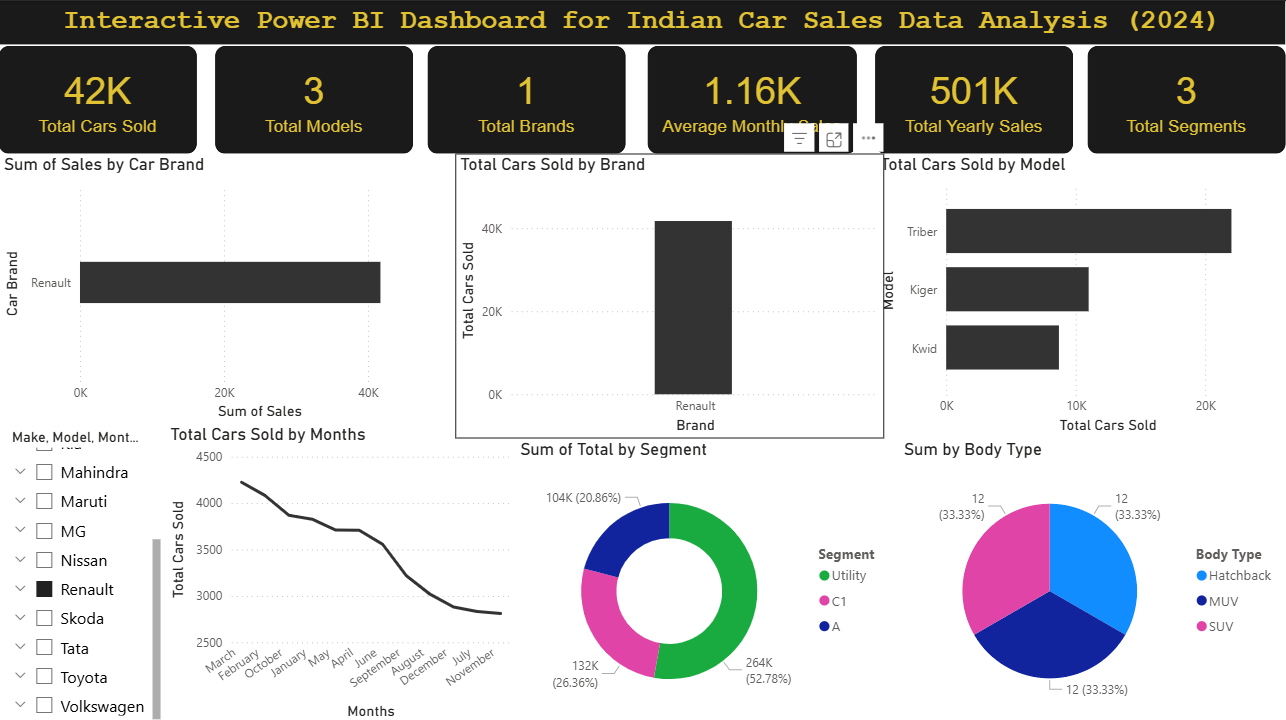

Layout of this report page (visuals, bound fields, positions):
{"tool":"powerbi","page":{"name":"Page 1","canvas":[1280,720],"ordinal":0},"visuals":[{"type":"card","fields":{"Values":["Sheet1.Total Cars Sold"]},"box":[0,44.8,196.5,107],"z":0},{"type":"card","fields":{"Values":["Sheet1.Total Models"]},"box":[215.2,44.8,196.5,107],"z":1},{"type":"card","fields":{"Values":["Sheet1.Total Brands"]},"box":[426.7,44.8,196.5,107],"z":2},{"type":"card","fields":{"Values":["Car Sales.Average Monthly Sales"]},"box":[645.6,44.8,207.7,107],"z":3},{"type":"card","fields":{"Values":["Car Sales.Total Yearly Sales"]},"box":[872,44.8,196.5,107],"z":4},{"type":"card","fields":{"Values":["Car Sales.Total Segments"]},"box":[1083.4,44.8,196.5,107],"z":5},{"type":"clusteredBarChart","fields":{"Category":["Car Sales.Make"],"Y":["Sum(Car Sales.Sales)"]},"box":[0,151.8,454,269.9],"z":6},{"type":"pieChart","fields":{"Category":["Car Sales.Body Type"],"Y":["CountNonNull(Car Sales.Total)"]},"box":[895.7,435.4,384.4,284.9],"z":7},{"type":"donutChart","fields":{"Category":["Car Sales.Segment"],"Y":["Sum(Car Sales.Total)"]},"box":[513.8,435.4,381.9,284.9],"z":8},{"type":"barChart","fields":{"Category":["Car Sales.Model"],"Y":["Car Sales.Total Cars Sold"]},"box":[872,151.8,408,283.6],"z":10},{"type":"slicer","fields":{"Values":["Car Sales.Make","Car Sales.Model","Car Sales.Months","Car Sales.Body Type","Car Sales.Segment"]},"box":[0,420.5,165.4,299.8],"z":11},{"type":"lineChart","fields":{"Y":["Car Sales.Total Cars Sold"],"Category":["Car Sales.Months"]},"box":[165.4,420.5,348.3,299.8],"z":12},{"type":"lineClusteredColumnComboChart","fields":{"Y":["Car Sales.Total Cars Sold"],"Category":["Car Sales.Make"]},"box":[454,151.8,426.7,283.6],"z":13},{"type":"textbox","box":[0,0,1280,43.5],"z":14}]}

Visuals, with their boxes in screenshot pixels (x1, y1, x2, y2):
card - Sheet1.Total Cars Sold: pyautogui.locateOnScreen(0, 42, 188, 152)
card - Sheet1.Total Models: pyautogui.locateOnScreen(207, 42, 408, 152)
card - Sheet1.Total Brands: pyautogui.locateOnScreen(423, 42, 624, 152)
card - Car Sales.Average Monthly Sales: pyautogui.locateOnScreen(647, 42, 859, 152)
card - Car Sales.Total Yearly Sales: pyautogui.locateOnScreen(878, 42, 1079, 152)
card - Car Sales.Total Segments: pyautogui.locateOnScreen(1094, 42, 1285, 152)
clusteredBarChart - Car Sales.Make x Sum(Car Sales.Sales): pyautogui.locateOnScreen(0, 152, 451, 428)
pieChart - Car Sales.Body Type x CountNonNull(Car Sales.Total): pyautogui.locateOnScreen(902, 442, 1285, 719)
donutChart - Car Sales.Segment x Sum(Car Sales.Total): pyautogui.locateOnScreen(512, 442, 902, 719)
barChart - Car Sales.Model x Car Sales.Total Cars Sold: pyautogui.locateOnScreen(878, 152, 1285, 442)
slicer - Car Sales.Make x Car Sales.Model: pyautogui.locateOnScreen(0, 427, 156, 719)
lineChart - Car Sales.Total Cars Sold x Car Sales.Months: pyautogui.locateOnScreen(156, 427, 512, 719)
lineClusteredColumnComboChart - Car Sales.Total Cars Sold x Car Sales.Make: pyautogui.locateOnScreen(451, 152, 887, 442)
textbox: pyautogui.locateOnScreen(0, 0, 1285, 41)
